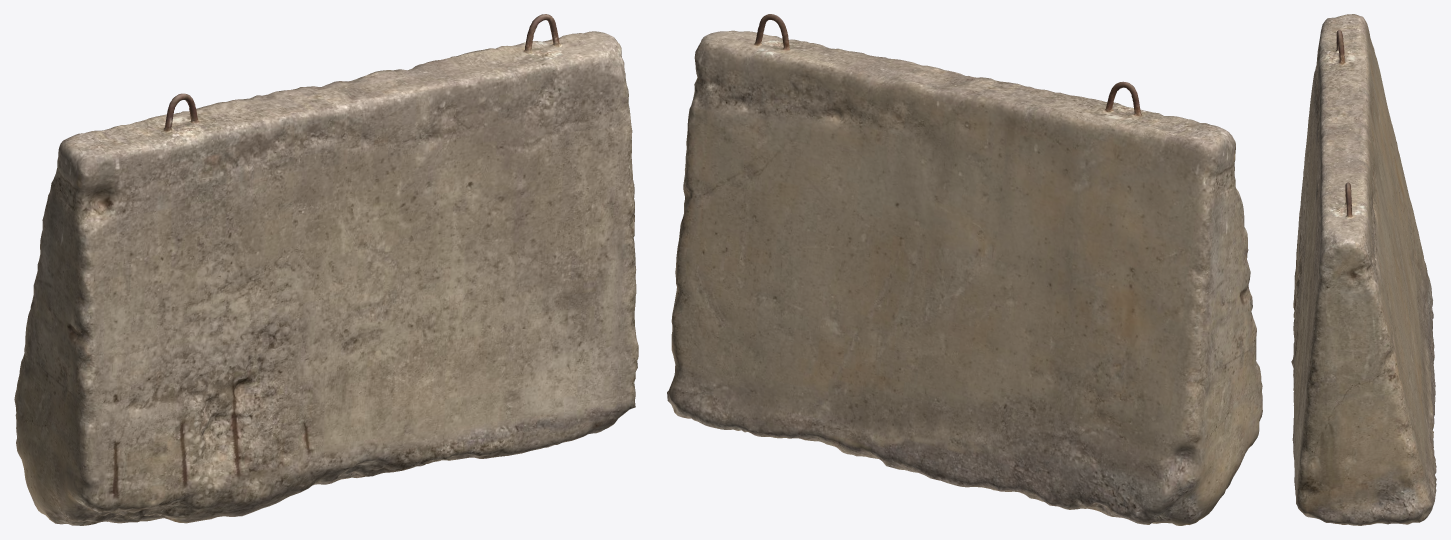
File: concrete_road_barrier_02.gltf
3 views of the same model, side by side, from view 1: azimuth 30°, elevation 25°; view 2: azimuth 150°, elevation 25°; view 3: azimuth 270°, elevation 25° (orthographic). The views are drawn at different scales.
Parts seen in each view (by area): view 1: concrete_road_barrier_02; view 2: concrete_road_barrier_02; view 3: concrete_road_barrier_02.
Boxes of the visible parts, <box> form: concrete_road_barrier_02: <box>14,14,638,525</box>; concrete_road_barrier_02: <box>667,14,1262,525</box>; concrete_road_barrier_02: <box>1291,14,1436,525</box>.
Bounding box in the file's own units: 1.57 × 1.11 × 0.4421.
1 material, 1 textured.
